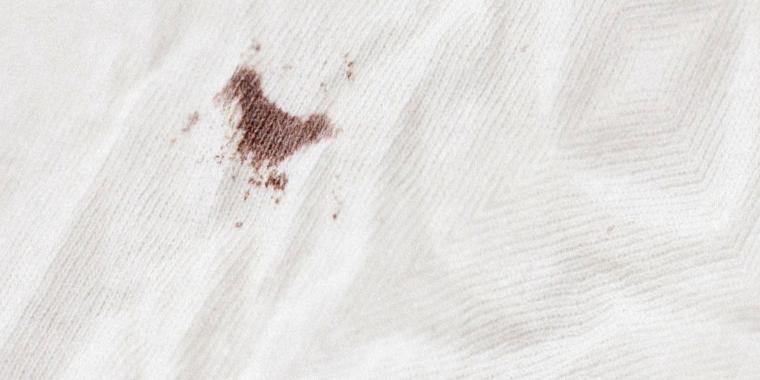stain: (217, 67, 335, 186)
